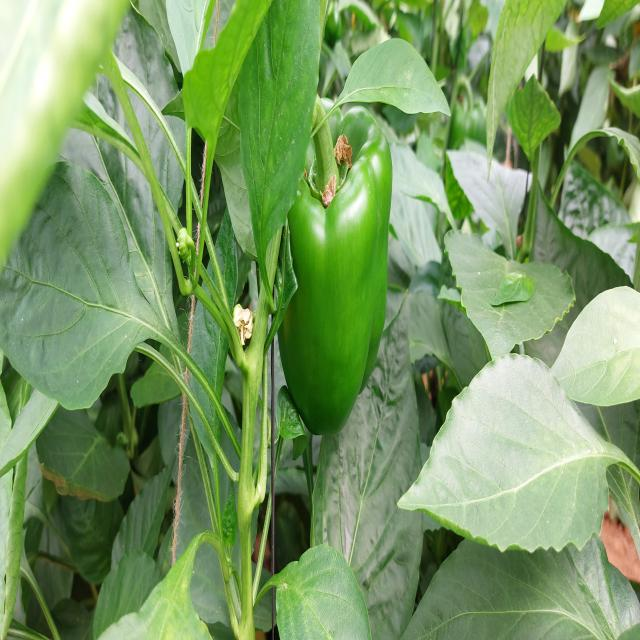Green--Not-ready-to-harvest: (278, 98, 390, 436)
